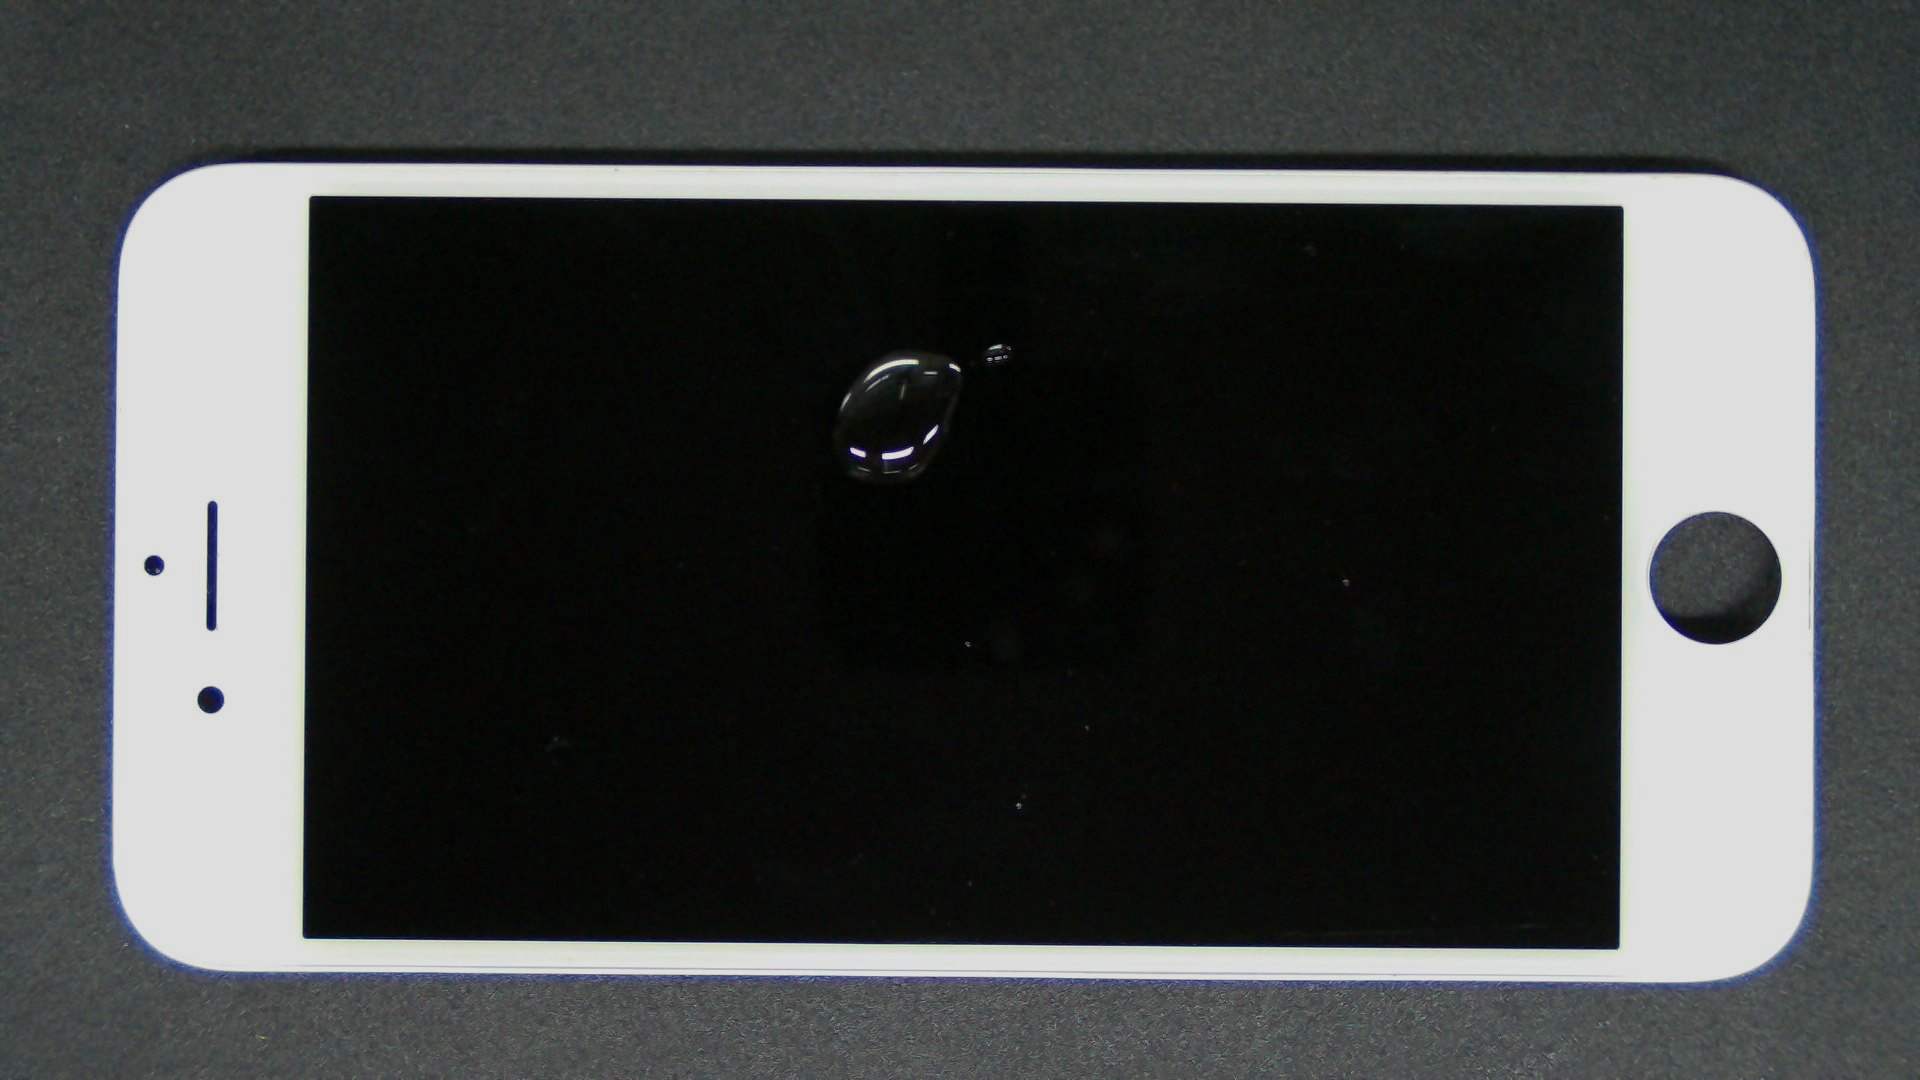oil: (498, 171, 1495, 516), (452, 174, 1354, 522)
